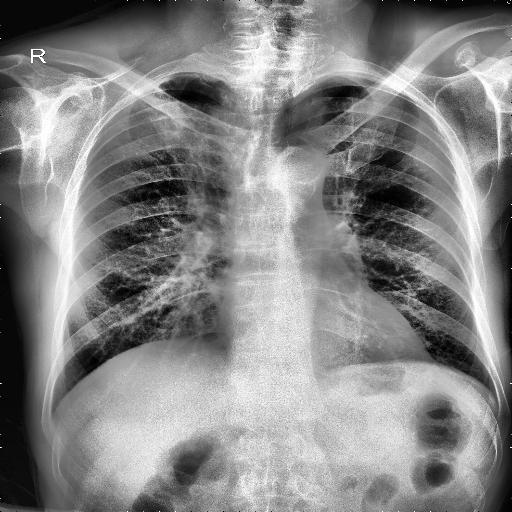0- Aortic enlargement: (269, 143, 327, 199), (270, 146, 326, 199), (272, 146, 324, 200)
11- Pleural thickening: (132, 66, 190, 96), (130, 70, 184, 97), (200, 70, 222, 84)
13- Pulmonary fibrosis: (134, 96, 224, 174)
